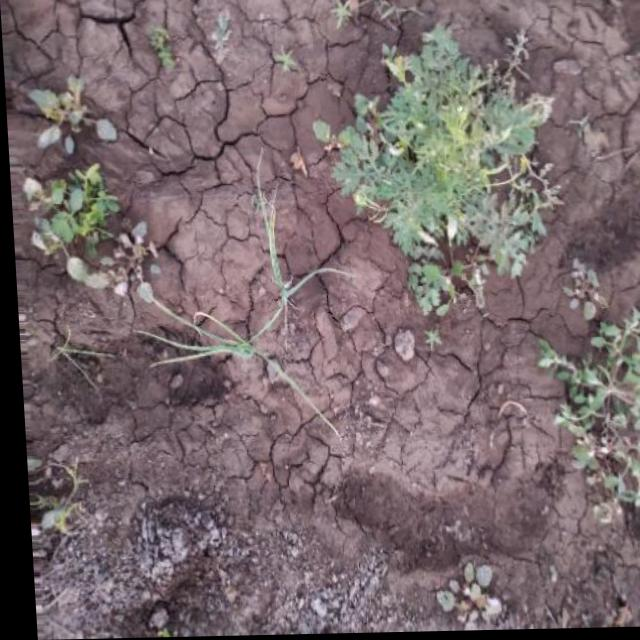weed: (314, 24, 565, 319), (11, 82, 147, 314), (536, 274, 640, 526)
